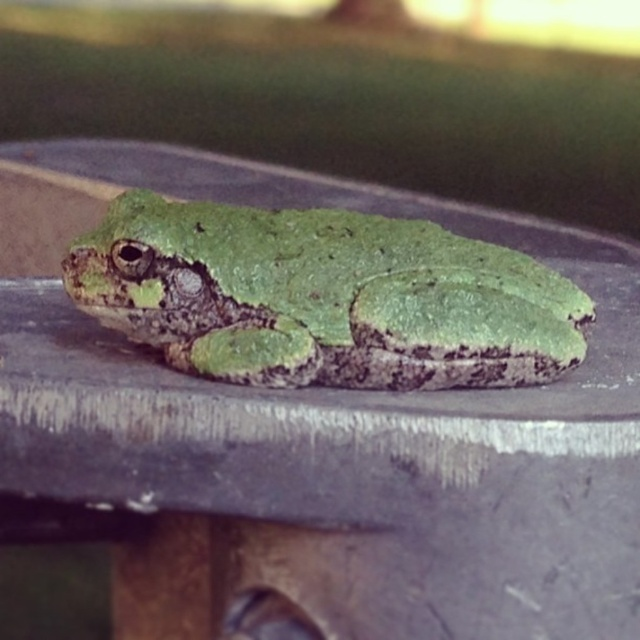Frog: (60, 185, 595, 390)
